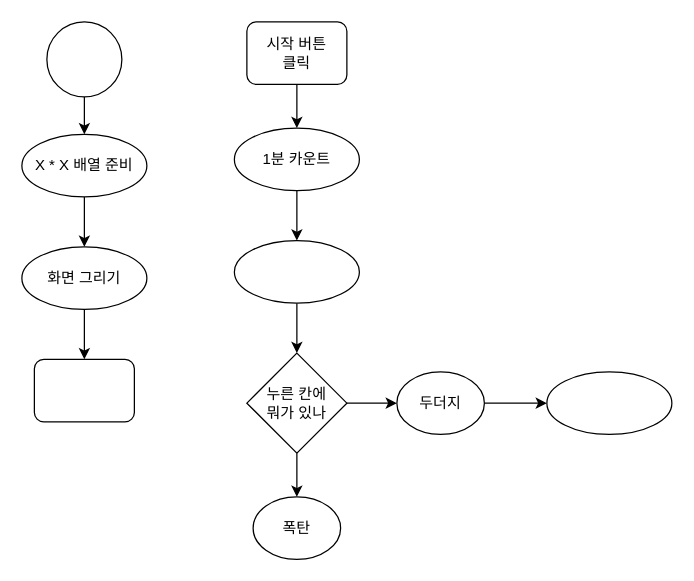
Some shapes in this 694 by 581 pixel diagram are drawn without their labels. The centre of each missing label's shape, as x and y in pixels:
"대기" belongs at point (83, 390).
"배열 데이터 5초마다 변경" belongs at point (296, 271).
"시작" belongs at point (84, 59).
"점수 추가" belongs at point (609, 402).
